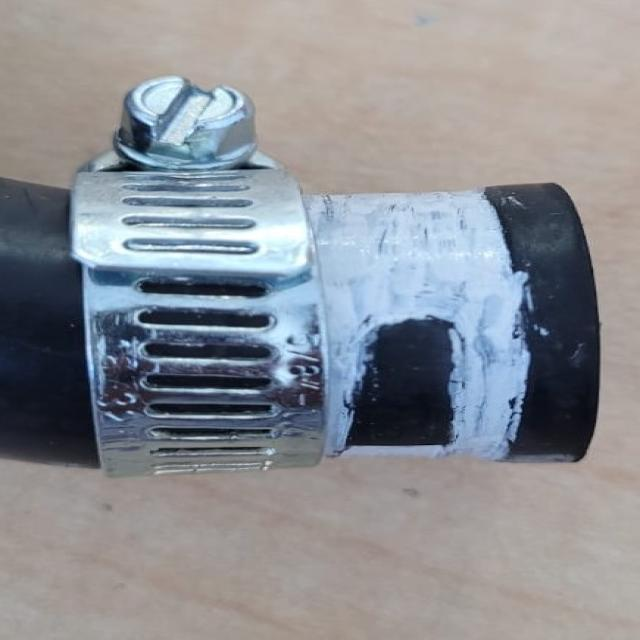clamp: (70, 76, 328, 481)
pipe: (312, 193, 590, 460)
